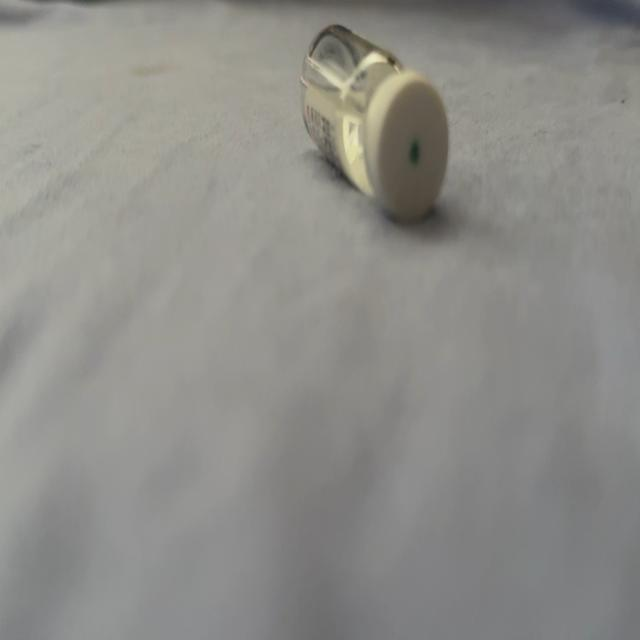fentanl_citrat: (302, 28, 447, 220)
